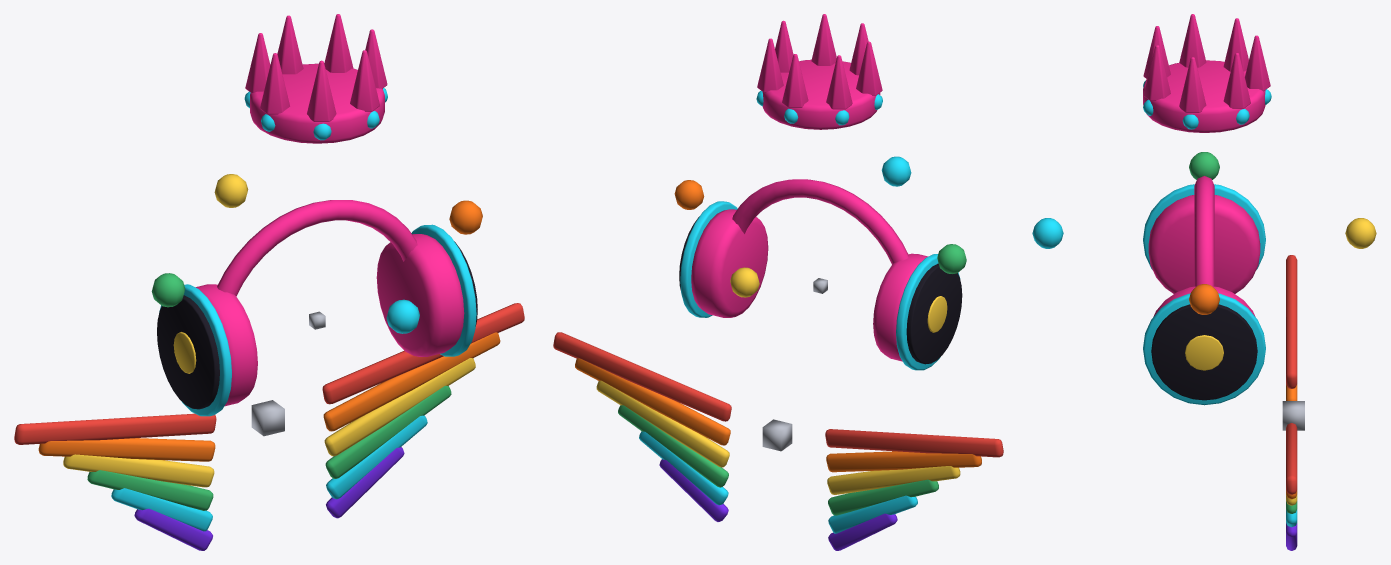
The model's file is Omega.fbx.
The picture shows the model from 3 angles, left to right: view 1: azimuth 30°, elevation 25°; view 2: azimuth 150°, elevation 25°; view 3: azimuth 270°, elevation 25°; orthographic projection. The views are drawn at different scales.
Visible parts, largest first — view 1: Magenta, Float_Spin_CrownBand, Spin_Vinyl-1, Flap_RainbowWing-1_0, Flap_RainbowWing1_1, Flap_RainbowWing1_0, Flap_RainbowWing-1_1, Flap_RainbowWing1_2, Flap_RainbowWing-1_2, Flap_RainbowWing1_3, Flap_RainbowWing-1_3, Pulse_Ring1 (+18 smaller); view 2: Magenta, Float_Spin_CrownBand, Spin_Vinyl-1, Flap_RainbowWing1_0, Flap_RainbowWing-1_0, Flap_RainbowWing1_1, Flap_RainbowWing-1_1, Flap_RainbowWing1_2, Flap_RainbowWing-1_2, Flap_RainbowWing1_3, Flap_RainbowWing-1_3, Pulse_Ring1 (+17 smaller); view 3: Magenta, Spin_Vinyl1, Float_Spin_CrownBand, Pulse_Ring1, Pulse_Ring-1, Flap_RainbowWing-1_0, Spin_VinylLabel1, Float_Spin_CrownSpike5, Float_Spin_CrownSpike6, Float_Spin_CrownSpike4, Float_Spin_CrownSpike0, Flap_RainbowWing1_0 (+8 smaller).
Boxes of the visible parts, left/top/right/bottom form: Magenta: left=195, top=200, right=464, bottom=406; Float_Spin_CrownBand: left=250, top=63, right=384, bottom=143; Spin_Vinyl-1: left=157, top=295, right=219, bottom=409; Flap_RainbowWing-1_0: left=14, top=413, right=216, bottom=444; Flap_RainbowWing1_1: left=323, top=332, right=500, bottom=431; Flap_RainbowWing1_0: left=322, top=303, right=524, bottom=404; Flap_RainbowWing-1_1: left=38, top=438, right=215, bottom=461; Flap_RainbowWing1_2: left=324, top=358, right=475, bottom=456; Flap_RainbowWing-1_2: left=63, top=454, right=214, bottom=487; Flap_RainbowWing1_3: left=325, top=385, right=451, bottom=478; Flap_RainbowWing-1_3: left=87, top=470, right=213, bottom=510; Pulse_Ring1: left=411, top=224, right=476, bottom=356; Magenta: left=691, top=179, right=927, bottom=361; Float_Spin_CrownBand: left=762, top=59, right=880, bottom=129; Spin_Vinyl-1: left=906, top=263, right=962, bottom=364; Flap_RainbowWing1_0: left=553, top=332, right=731, bottom=421; Flap_RainbowWing-1_0: left=825, top=429, right=1003, bottom=457; Flap_RainbowWing1_1: left=575, top=358, right=730, bottom=445; Flap_RainbowWing-1_1: left=826, top=451, right=981, bottom=472; Flap_RainbowWing1_2: left=596, top=380, right=729, bottom=467; Flap_RainbowWing-1_2: left=827, top=466, right=960, bottom=494; Flap_RainbowWing1_3: left=618, top=405, right=728, bottom=487; Flap_RainbowWing-1_3: left=828, top=479, right=938, bottom=515; Pulse_Ring1: left=680, top=201, right=737, bottom=317; Magenta: left=1148, top=176, right=1260, bottom=316; Spin_Vinyl1: left=1151, top=304, right=1257, bottom=400; Float_Spin_CrownBand: left=1143, top=60, right=1265, bottom=132; Pulse_Ring1: left=1143, top=293, right=1265, bottom=405; Pulse_Ring-1: left=1143, top=184, right=1265, bottom=269; Flap_RainbowWing-1_0: left=1286, top=255, right=1297, bottom=388; Spin_VinylLabel1: left=1185, top=335, right=1223, bottom=370; Float_Spin_CrownSpike5: left=1179, top=57, right=1206, bottom=112; Float_Spin_CrownSpike6: left=1223, top=53, right=1250, bottom=108; Float_Spin_CrownSpike4: left=1143, top=45, right=1170, bottom=100; Float_Spin_CrownSpike0: left=1245, top=35, right=1270, bottom=91; Flap_RainbowWing1_0: left=1286, top=423, right=1297, bottom=494.
Size of the model in its own units: 4.79 by 4.78 by 3.08.
